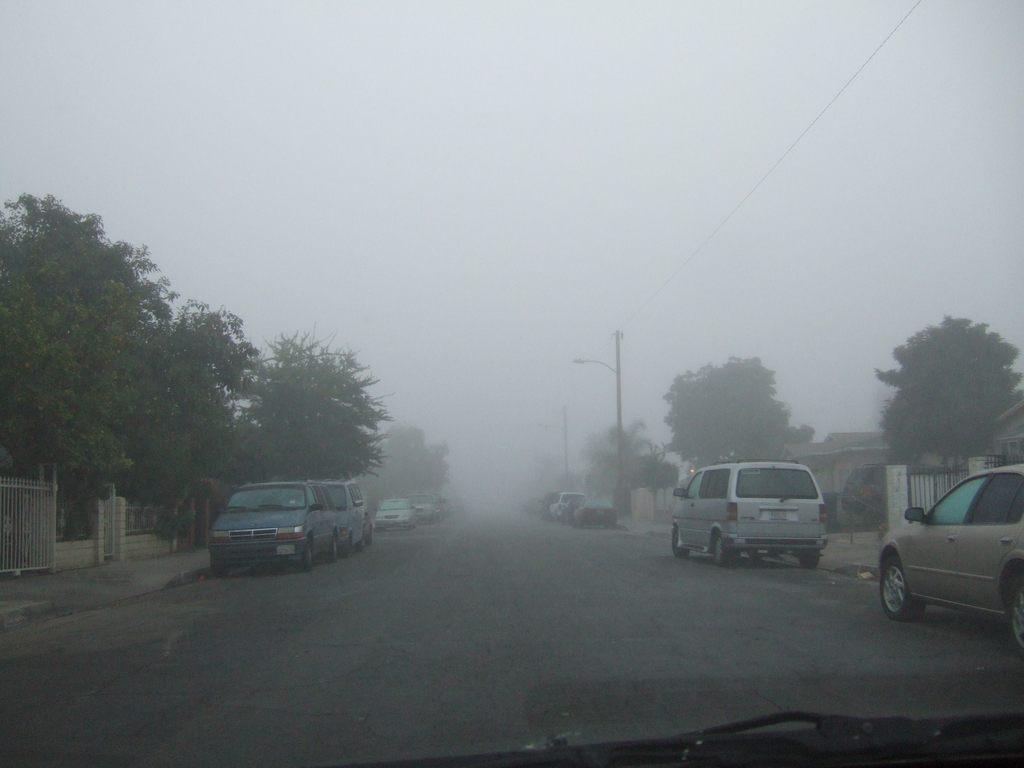Car: (336, 699, 1023, 767), (872, 460, 1023, 653), (670, 455, 847, 580), (213, 480, 339, 568), (321, 474, 375, 549), (375, 498, 419, 531), (545, 487, 579, 522), (572, 495, 613, 524), (412, 489, 437, 524)
